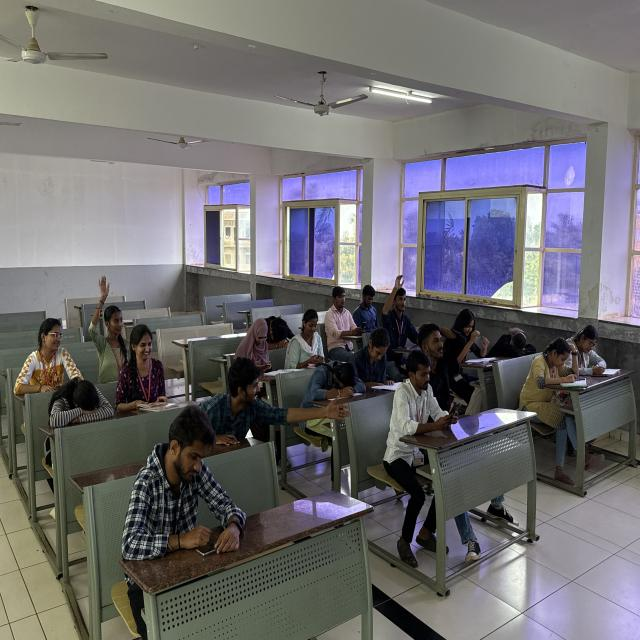Hand Rising: (87, 272, 137, 382), (380, 270, 418, 346)
Reading: (517, 334, 585, 412), (348, 328, 405, 393)
Sleeping: (288, 354, 371, 421), (45, 375, 116, 434), (484, 324, 544, 366), (258, 308, 300, 359)
Using Phone: (382, 348, 464, 452), (230, 312, 276, 384), (322, 282, 368, 348), (286, 304, 325, 374)
Writing: (562, 318, 621, 379)
